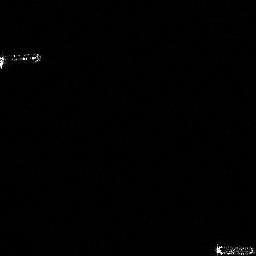ship: (1, 52, 41, 68), (212, 242, 256, 256)
